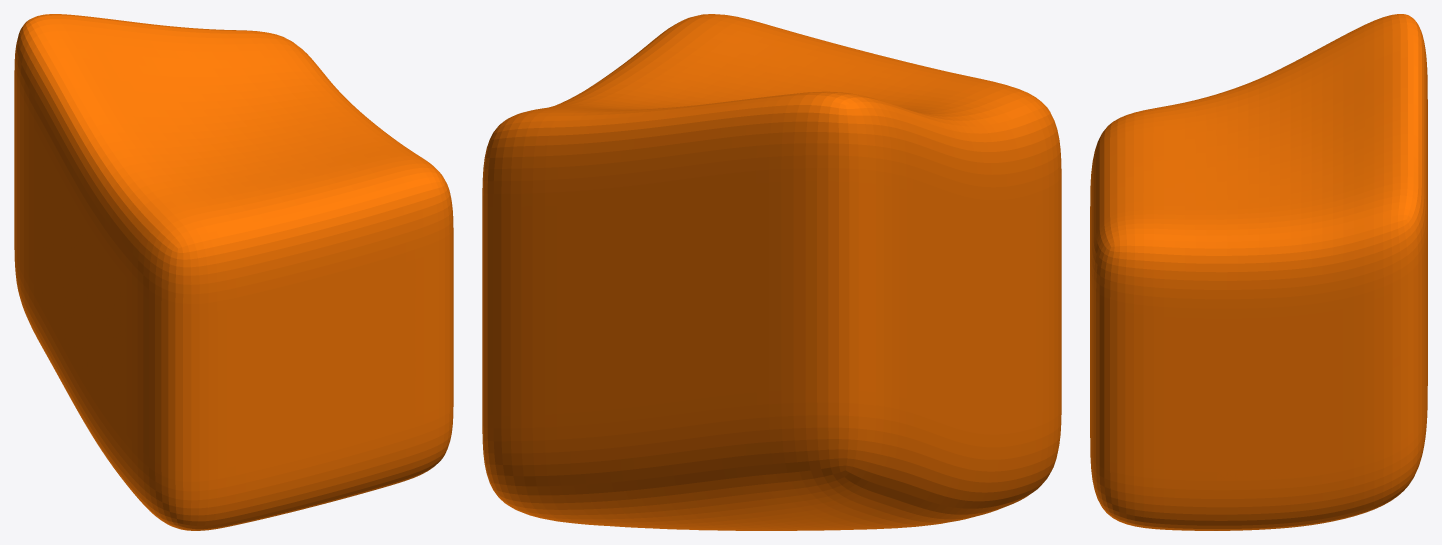
3 renders of one model, left to right at view 1: azimuth 30°, elevation 25°; view 2: azimuth 150°, elevation 25°; view 3: azimuth 270°, elevation 25°, orthographic. The views are drawn at different scales.
Visible parts, largest first — view 1: smooth_1_base.030; view 2: smooth_1_base.030; view 3: smooth_1_base.030.
Part boxes in pixels (box(x1,y1,x2,y2)): smooth_1_base.030: box(14, 14, 453, 530); smooth_1_base.030: box(482, 14, 1061, 530); smooth_1_base.030: box(1090, 14, 1427, 530).
Bounding box in the file's own units: 60 × 78.89 × 60.
